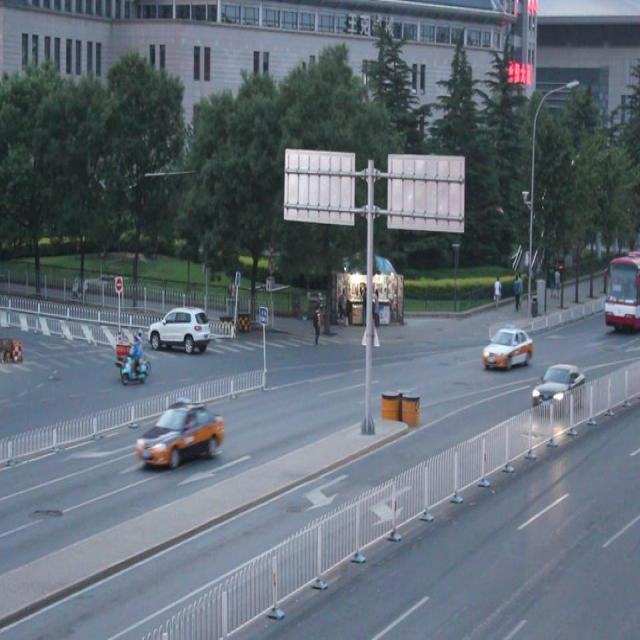car: (137, 398, 224, 466), (147, 308, 208, 355), (530, 362, 584, 413), (481, 328, 531, 368)
van: (602, 247, 640, 335)
